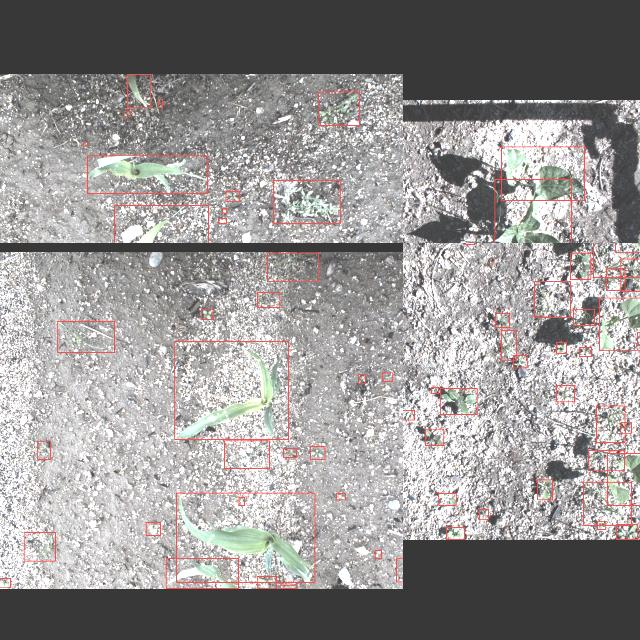crop: (176, 493, 314, 583), (174, 341, 288, 439), (494, 178, 570, 243), (86, 155, 208, 193), (501, 146, 584, 200), (114, 205, 208, 243), (166, 559, 238, 589), (599, 298, 640, 350), (606, 453, 640, 505), (126, 74, 150, 108)
weed: (273, 180, 339, 224), (583, 482, 631, 526), (56, 321, 114, 352), (592, 243, 640, 277), (266, 252, 318, 280), (317, 91, 358, 125), (533, 281, 569, 317), (224, 441, 268, 469), (596, 406, 624, 442), (439, 388, 476, 414), (23, 532, 55, 562), (588, 451, 624, 471), (620, 258, 640, 291), (570, 253, 590, 279), (500, 330, 516, 360), (606, 268, 624, 290), (572, 309, 594, 325), (256, 292, 280, 306), (616, 524, 636, 540), (536, 480, 552, 500), (556, 386, 574, 402), (425, 429, 443, 445), (36, 442, 50, 460), (256, 576, 276, 588), (495, 312, 509, 328), (445, 528, 463, 540), (438, 493, 456, 505), (146, 522, 160, 536), (310, 446, 324, 460), (513, 354, 527, 368), (395, 559, 403, 582), (225, 191, 239, 201), (282, 448, 296, 458), (556, 342, 566, 353), (403, 410, 414, 420), (579, 348, 591, 357), (382, 372, 392, 382), (202, 309, 212, 319), (478, 510, 488, 520), (620, 423, 630, 433), (0, 578, 9, 588), (596, 521, 606, 529), (280, 585, 296, 589), (358, 374, 364, 384), (374, 550, 381, 558), (336, 494, 344, 501), (636, 332, 640, 346), (218, 218, 226, 224), (238, 497, 244, 505), (430, 387, 438, 393), (158, 99, 162, 107), (124, 112, 130, 116), (222, 208, 226, 212), (83, 142, 87, 146)
